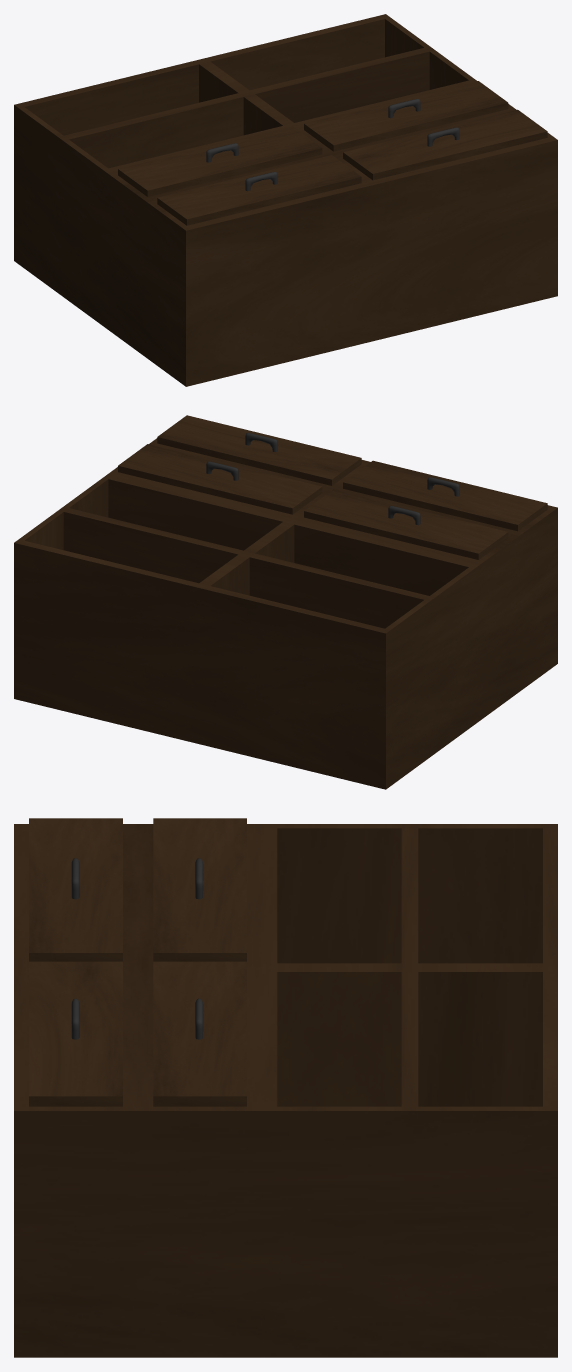
The model's file is ArmarioBajo.fbx.
The picture shows the model from 3 angles, top to bottom: view 1: azimuth 30°, elevation 25°; view 2: azimuth 150°, elevation 25°; view 3: azimuth 270°, elevation 25°; orthographic projection. The views are drawn at different scales.
Parts seen in each view (by area): view 1: ArmarioBajoCuerpo, ArmarioBajoCajonIzqSup.002, ArmarioBajoCajonIzqInf, ArmarioBajoCajonIzqSup, ArmarioBajoCajonDerInf; view 2: ArmarioBajoCuerpo, ArmarioBajoCajonDerInf, ArmarioBajoCajonIzqSup, ArmarioBajoCajonIzqSup.002, ArmarioBajoCajonIzqInf; view 3: ArmarioBajoCuerpo, ArmarioBajoCajonIzqSup, ArmarioBajoCajonIzqInf, ArmarioBajoCajonDerInf, ArmarioBajoCajonIzqSup.002.
Boxes of the visible parts, x1=… form: ArmarioBajoCuerpo: x1=14, y1=14, x2=557, y2=386; ArmarioBajoCajonIzqSup.002: x1=118, y1=126, x2=322, y2=196; ArmarioBajoCajonIzqInf: x1=343, y1=109, x2=547, y2=180; ArmarioBajoCajonIzqSup: x1=304, y1=81, x2=508, y2=151; ArmarioBajoCajonDerInf: x1=157, y1=155, x2=361, y2=225; ArmarioBajoCuerpo: x1=14, y1=438, x2=557, y2=789; ArmarioBajoCajonDerInf: x1=343, y1=460, x2=547, y2=531; ArmarioBajoCajonIzqSup: x1=118, y1=444, x2=322, y2=514; ArmarioBajoCajonIzqSup.002: x1=304, y1=489, x2=508, y2=559; ArmarioBajoCajonIzqInf: x1=157, y1=415, x2=361, y2=485; ArmarioBajoCuerpo: x1=14, y1=824, x2=557, y2=1357; ArmarioBajoCajonIzqSup: x1=153, y1=961, x2=246, y2=1106; ArmarioBajoCajonIzqInf: x1=29, y1=961, x2=122, y2=1106; ArmarioBajoCajonDerInf: x1=29, y1=818, x2=122, y2=961; ArmarioBajoCajonIzqSup.002: x1=153, y1=818, x2=246, y2=961.
Size of the model in its own units: 125 by 56.01 by 100.
